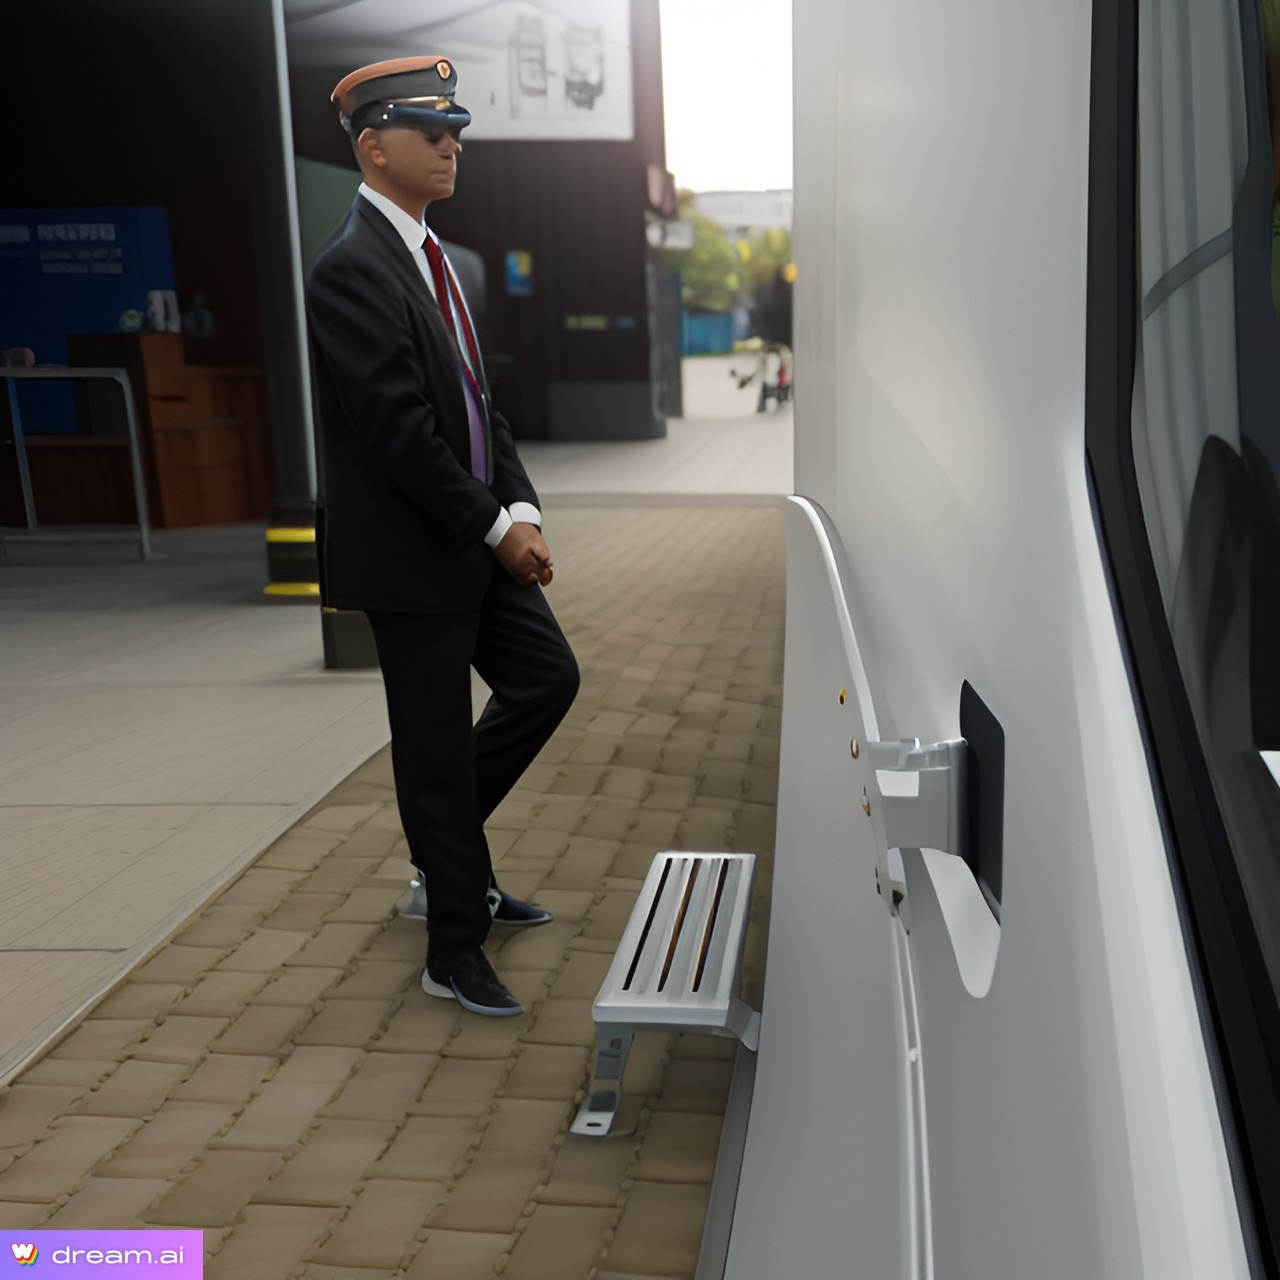step_front: (556, 833, 828, 1145)
